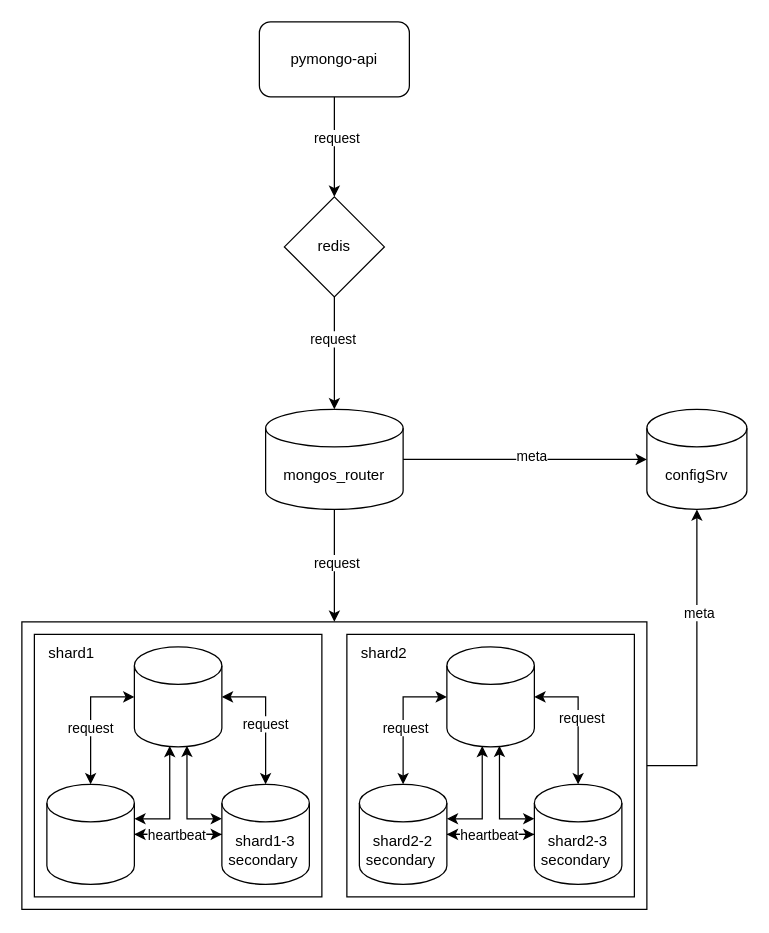
The diagram is 769 pixels wide and 933 high, and some of its shapes have lost their labels. The shapes that lost their labels are listed below. From the top down, each one's centre as x and y in pixels, then its label:
point 177,696: shard1-1 primary
point 490,696: shard2-1 primary
point 90,833: shard1-2 secondary
